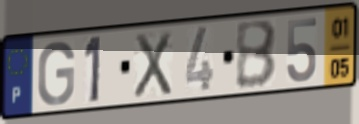1: (82, 33, 103, 106)
4: (183, 24, 216, 95)
5: (285, 15, 318, 84)
B: (234, 18, 279, 92)
G: (35, 39, 77, 108)
X: (131, 28, 174, 101)
